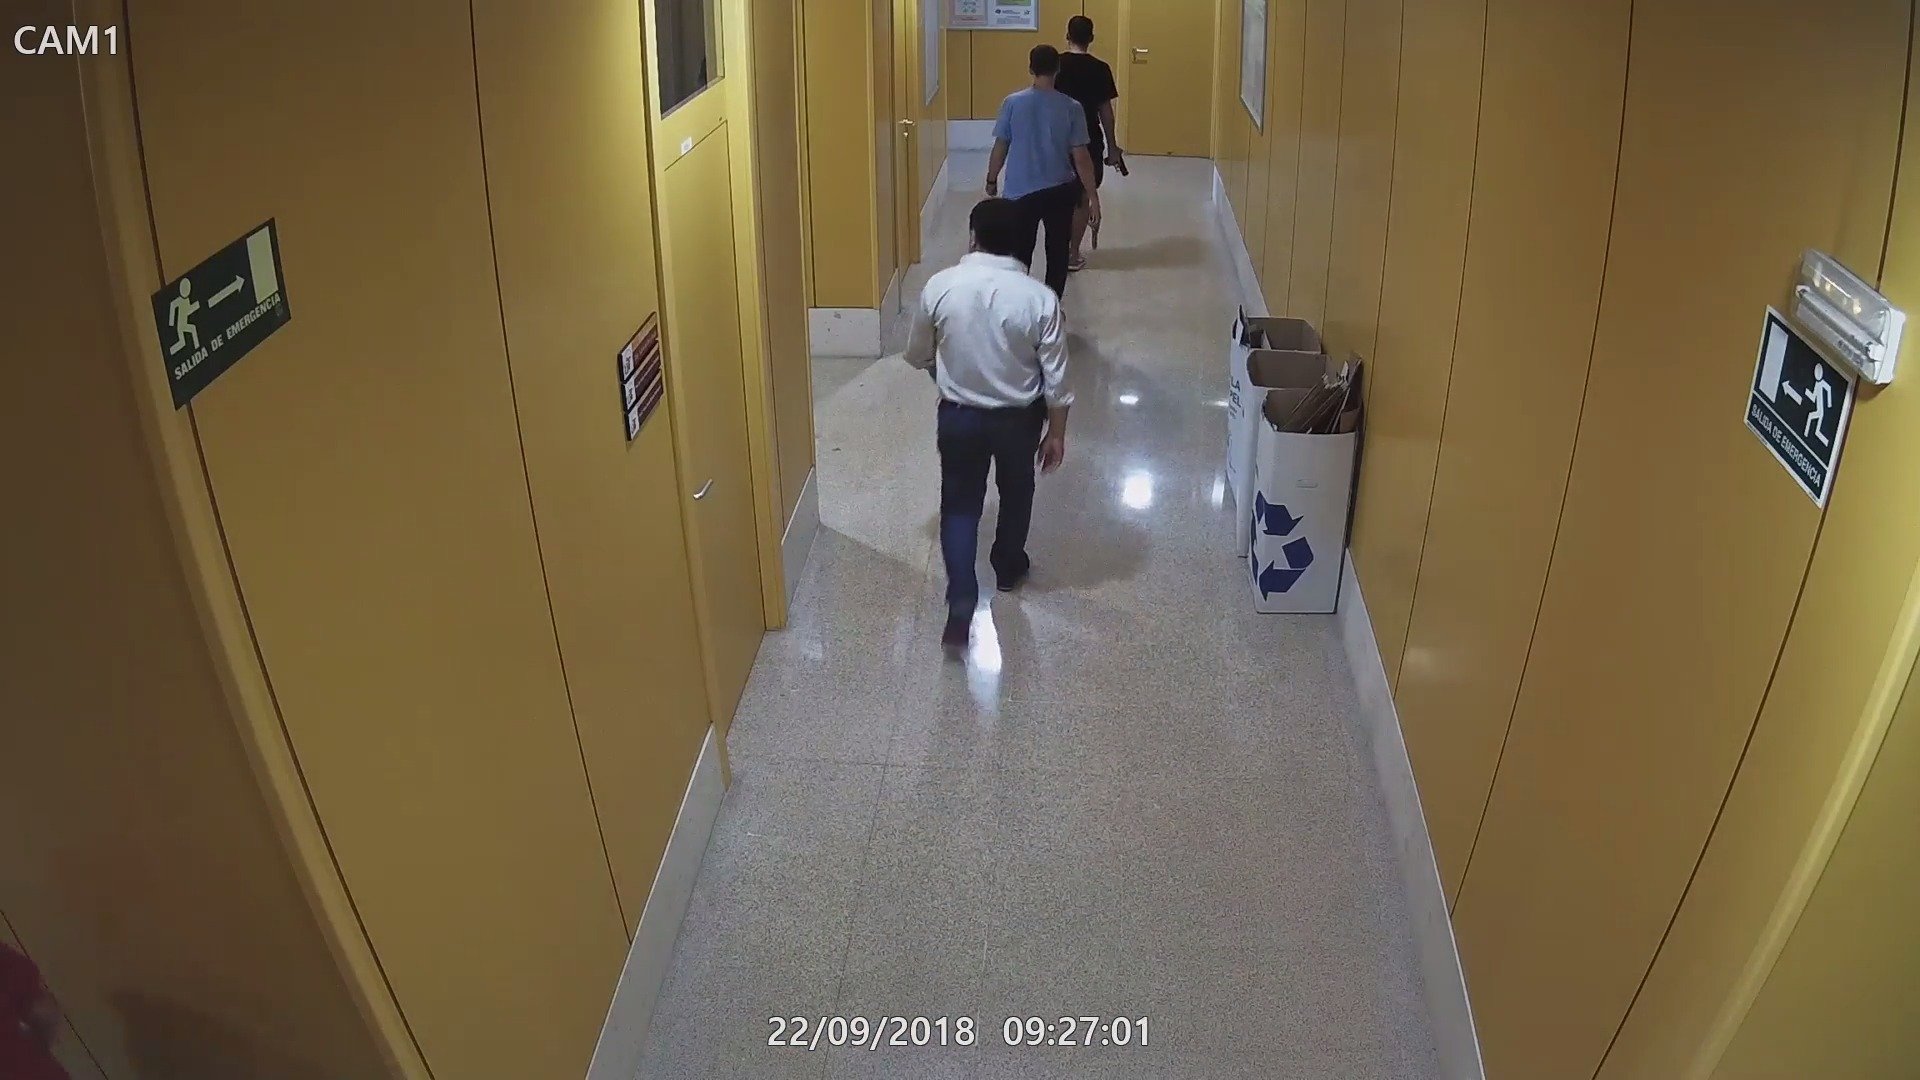pistol: (1080, 206, 1106, 252), (1101, 146, 1129, 179)
